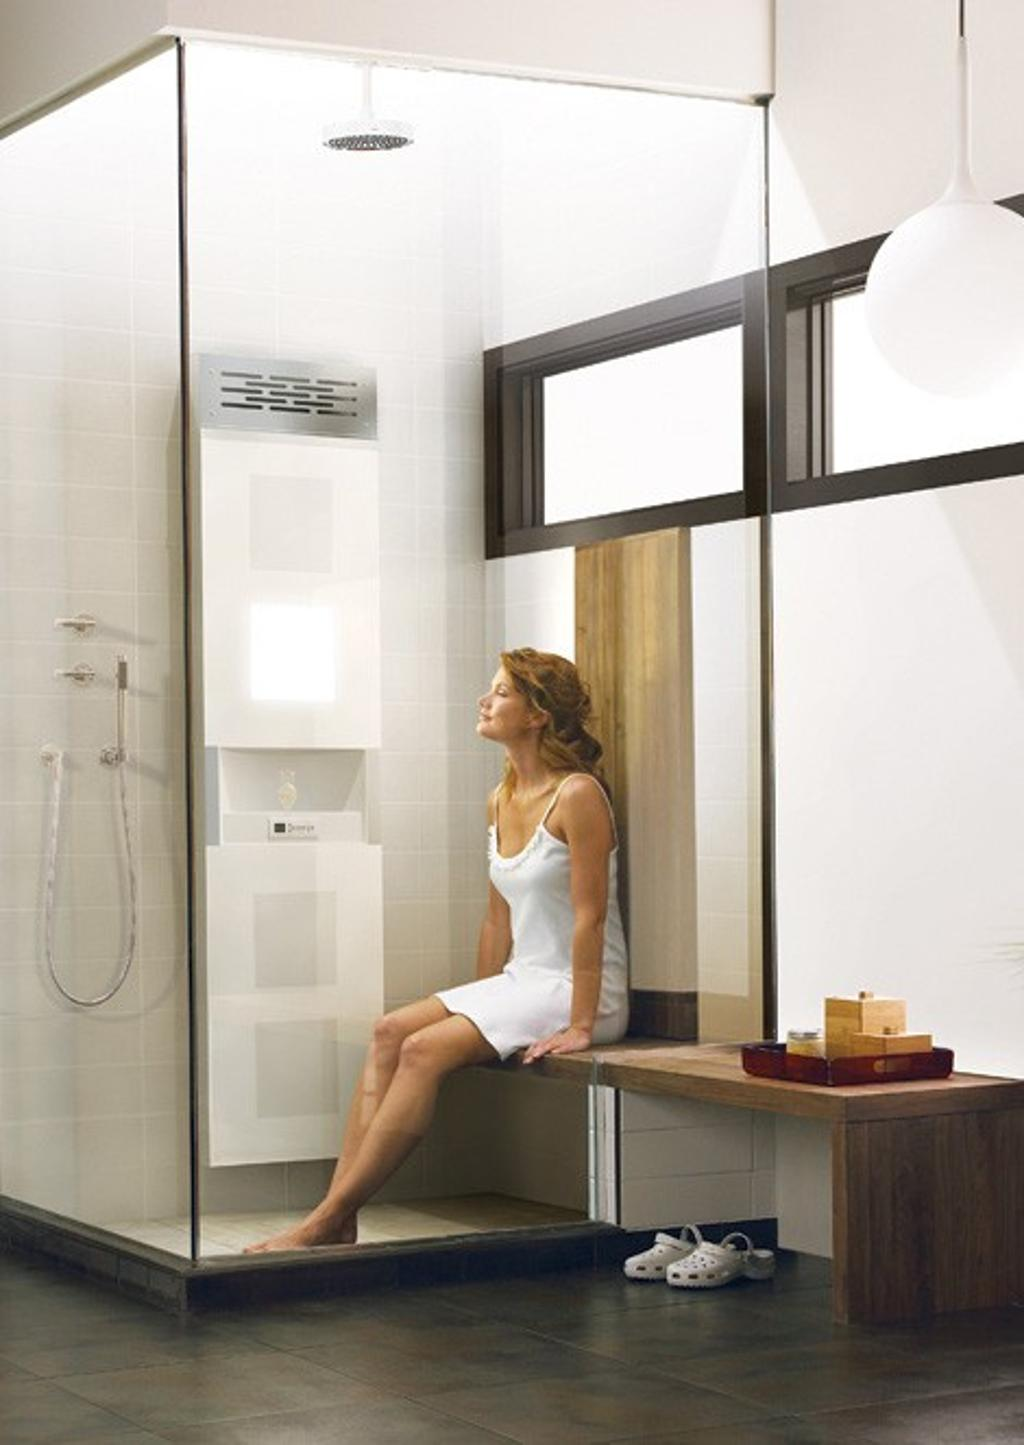face: (477, 654, 533, 739)
